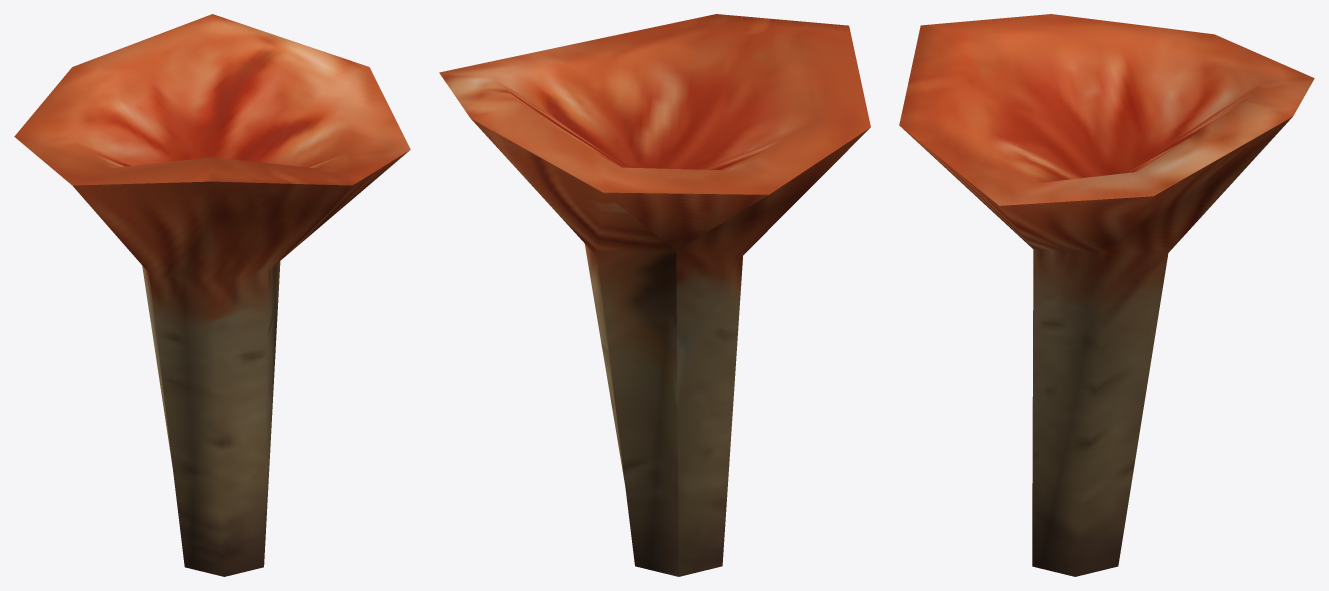
File: Mushroom2B.fbx
The picture shows the model from 3 angles, left to right: view 1: azimuth 30°, elevation 25°; view 2: azimuth 150°, elevation 25°; view 3: azimuth 270°, elevation 25°; orthographic projection. The views are drawn at different scales.
Visible parts, largest first — view 1: mushroom6; view 2: mushroom6; view 3: mushroom6.
Part boxes in pixels (x1,y1,x2,y2): mushroom6: [14, 14, 410, 576]; mushroom6: [439, 14, 870, 576]; mushroom6: [899, 14, 1314, 576].
Bounding box in the file's own units: 0.4987 × 0.6239 × 0.4803.
Materials: 1 (1 with a texture image).
